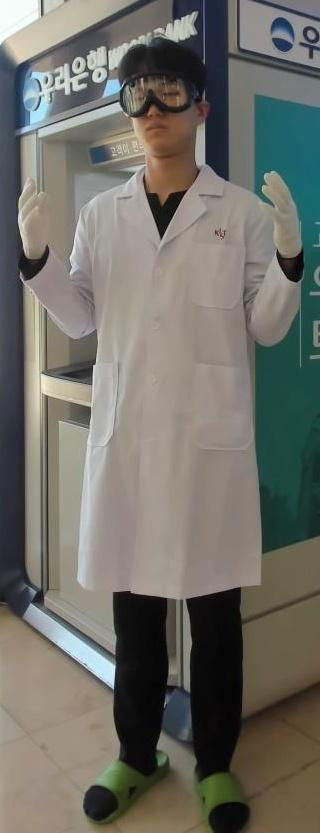lab_coat: (72, 202, 260, 583)
